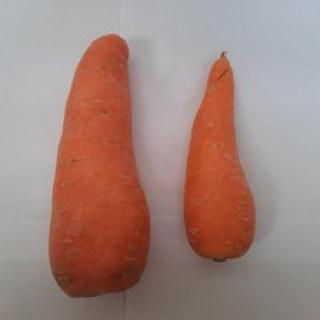carrot: (50, 37, 152, 297), (181, 53, 257, 259)
